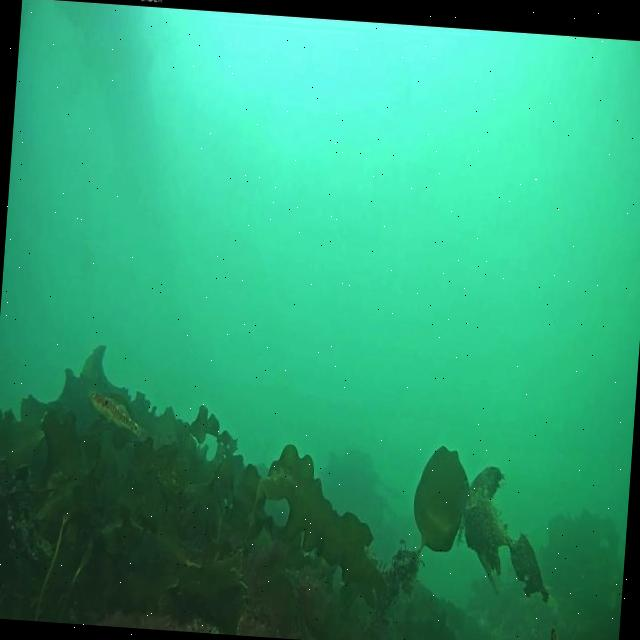fish: (88, 386, 151, 442)
